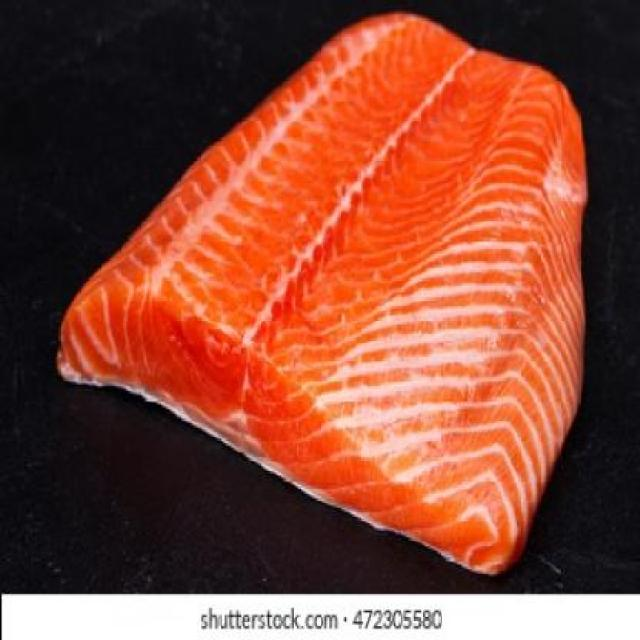salmon: (52, 9, 610, 569)
